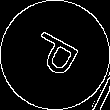P_SE: (24, 26, 86, 84)
